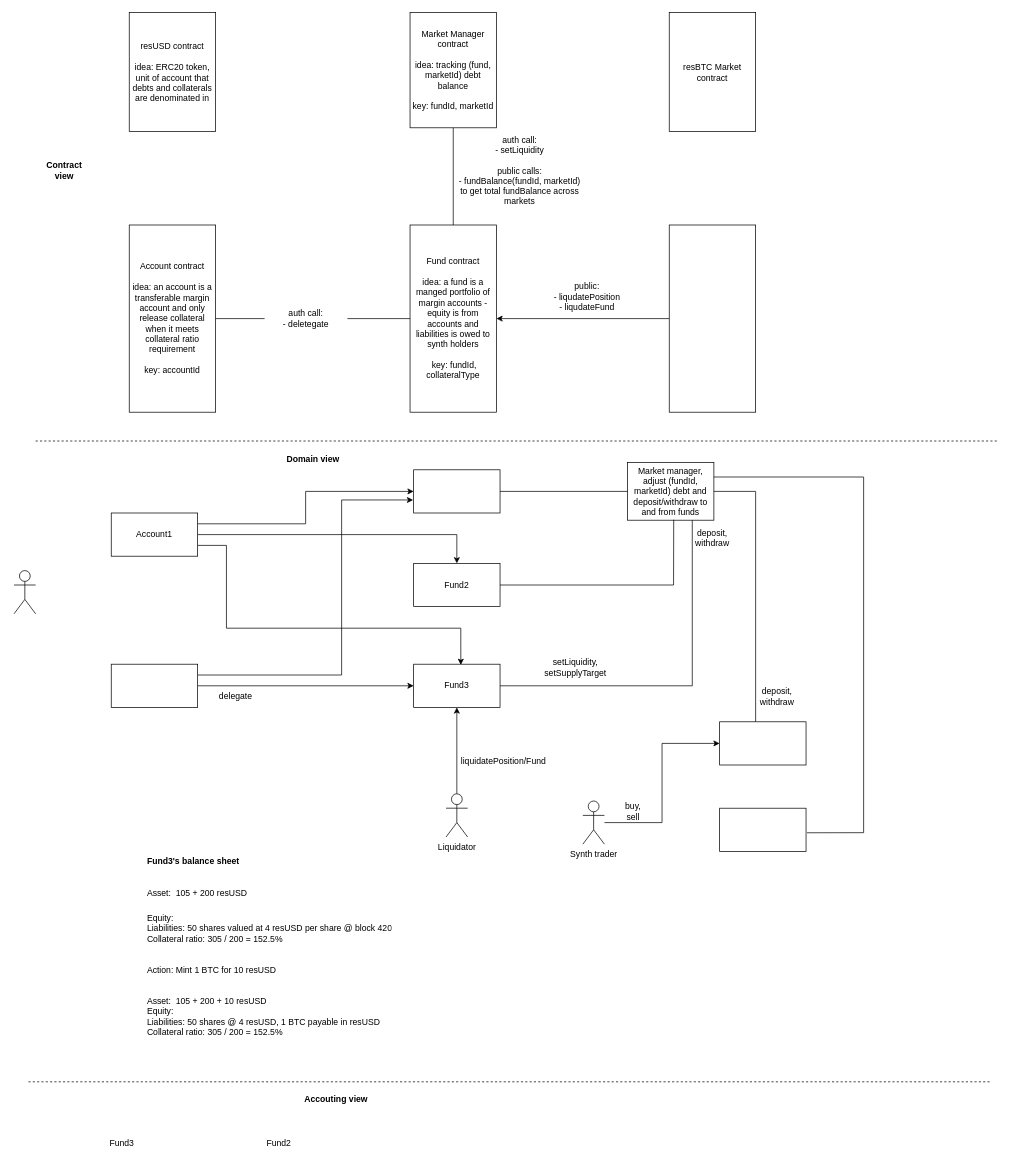
Some shapes in this 1012 by 1166 pixel diagram are drawn without their labels. The shapes that lost their labels are listed below. From the top down, each one's centre as x and y in pixels, then its label:
point 712,318: Liquidator Bot contract idea: code not owned by protocol
point 456,491: Fund1
point 24,592: Staker
point 154,685: Account2
point 762,743: resBTC
point 762,829: resETH
